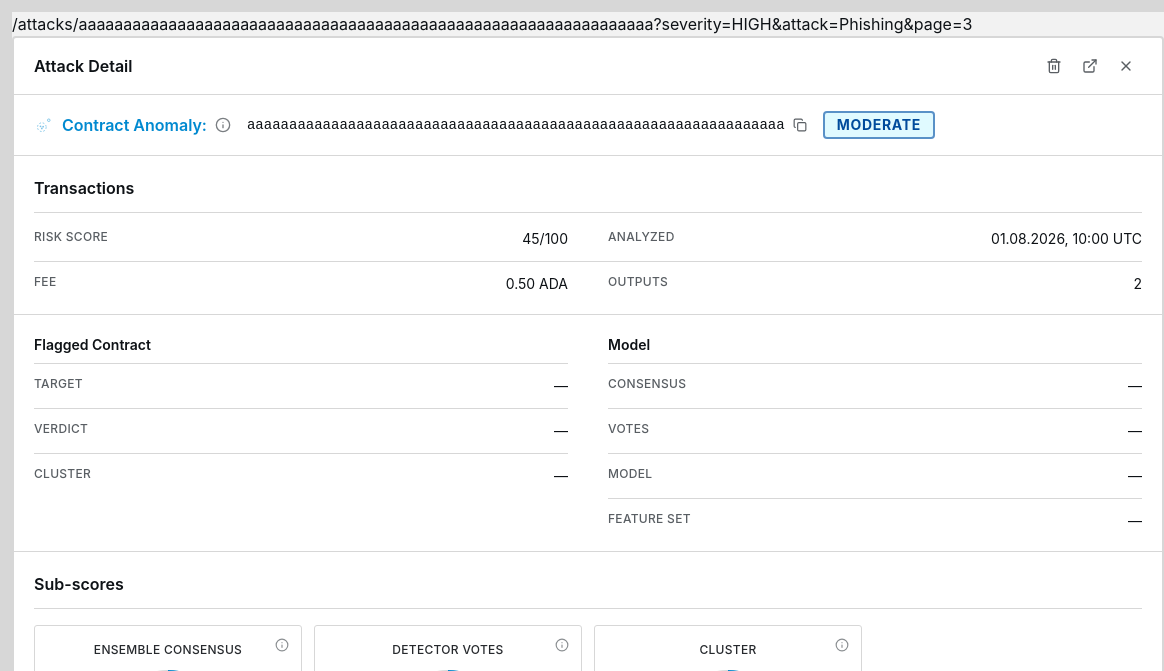
closing the detail keeps the table's filters › the X button carries the query string back to the dashboard
This screenshot has width=1164, height=671.
Click the button titled "Close". click: (1126, 66)
box: [1110, 50, 1142, 82]
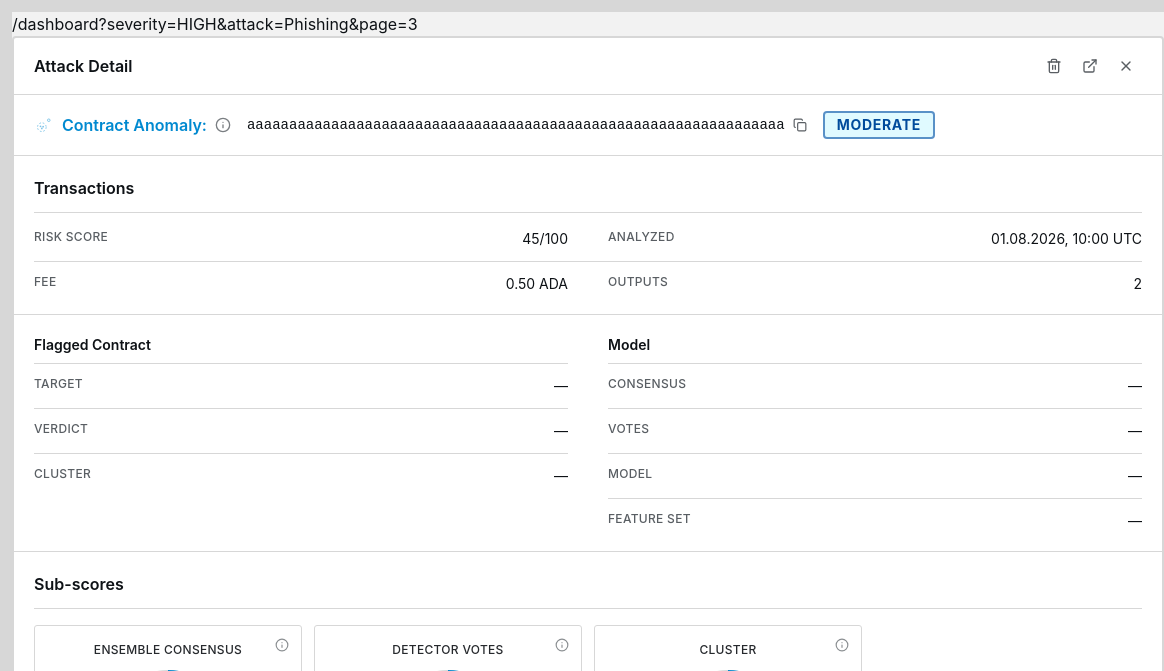
expect the text with test id "location" reads "/dashboard?severity=HIGH&attack=Phishing&page=3": met, box [12, 14, 418, 34]
